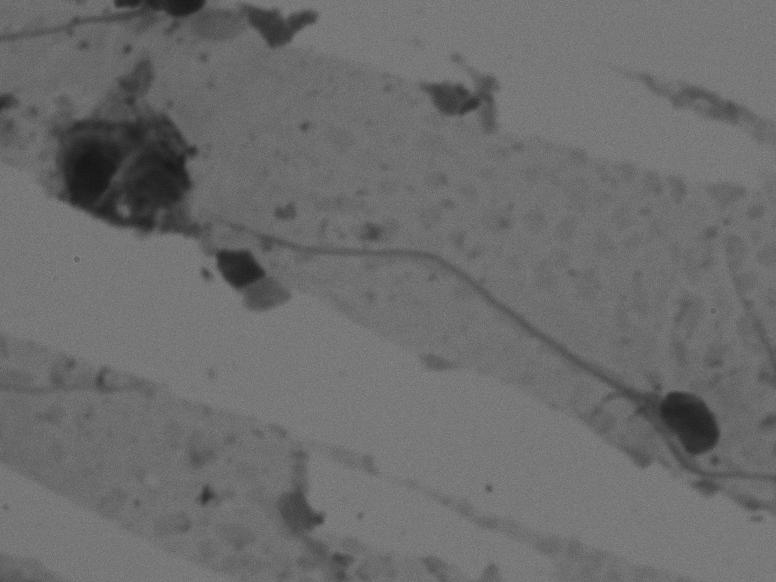Abnormal: (192, 160, 741, 475)
